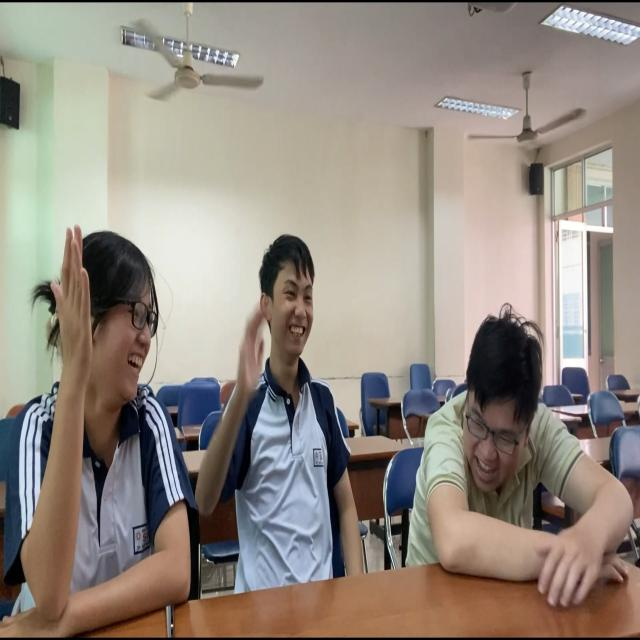raise_hand: (1, 213, 204, 629)
